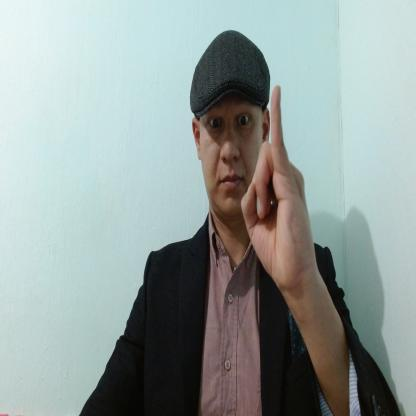I: (241, 83, 313, 287)
